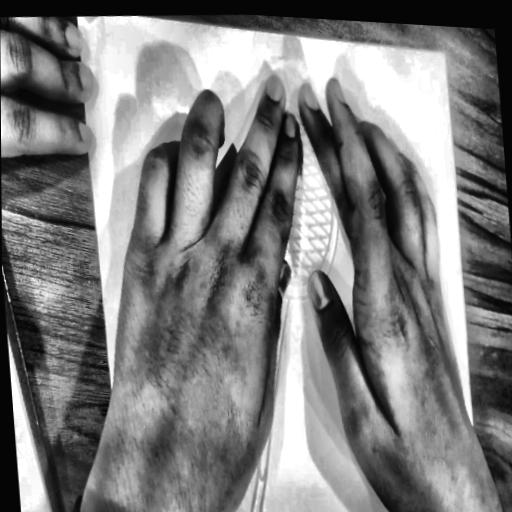badminton: (180, 55, 435, 512)
top_right: (440, 49, 449, 63)
